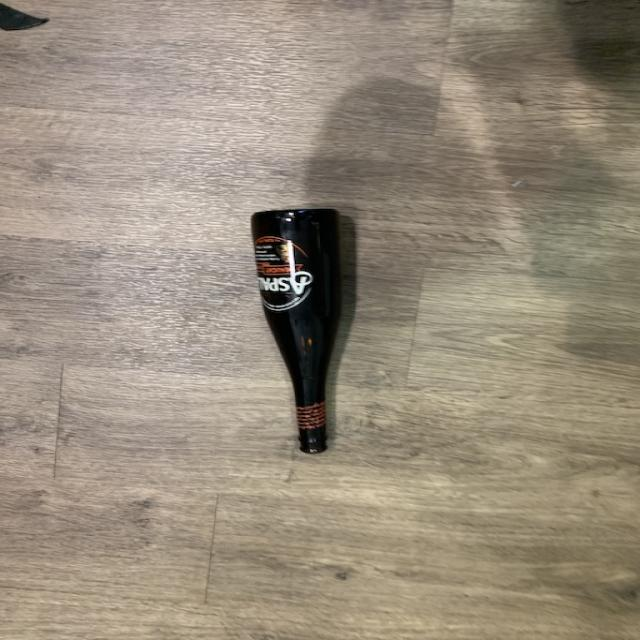litter: (249, 208, 350, 461)
